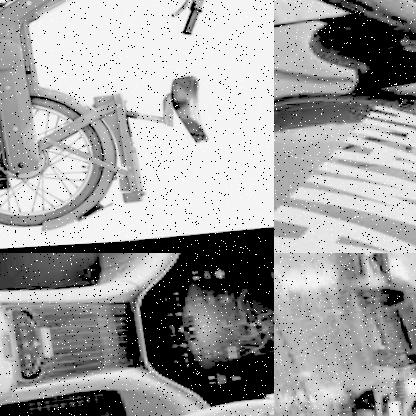bike: (274, 0, 416, 253)
car: (0, 253, 274, 416), (334, 253, 416, 380)
